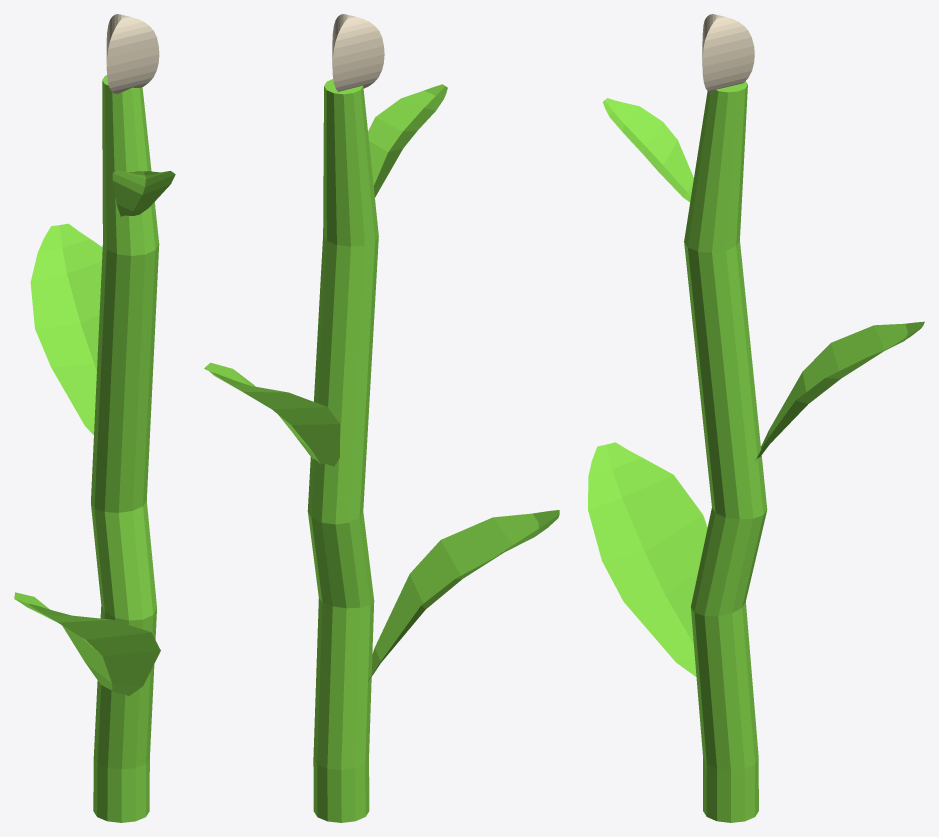
File: stage0 (1).fbx
The picture shows the model from 3 angles, left to right: view 1: azimuth 30°, elevation 25°; view 2: azimuth 150°, elevation 25°; view 3: azimuth 270°, elevation 25°; orthographic projection.
Parts seen in each view (by area): view 1: Sphere; view 2: Sphere; view 3: Sphere.
Boxes of the visible parts, left/top/right/bottom form: Sphere: left=14, top=14, right=175, bottom=822; Sphere: left=204, top=14, right=559, bottom=822; Sphere: left=588, top=14, right=924, bottom=822.
Bounding box in the file's own units: 42.53 × 145 × 55.74.
